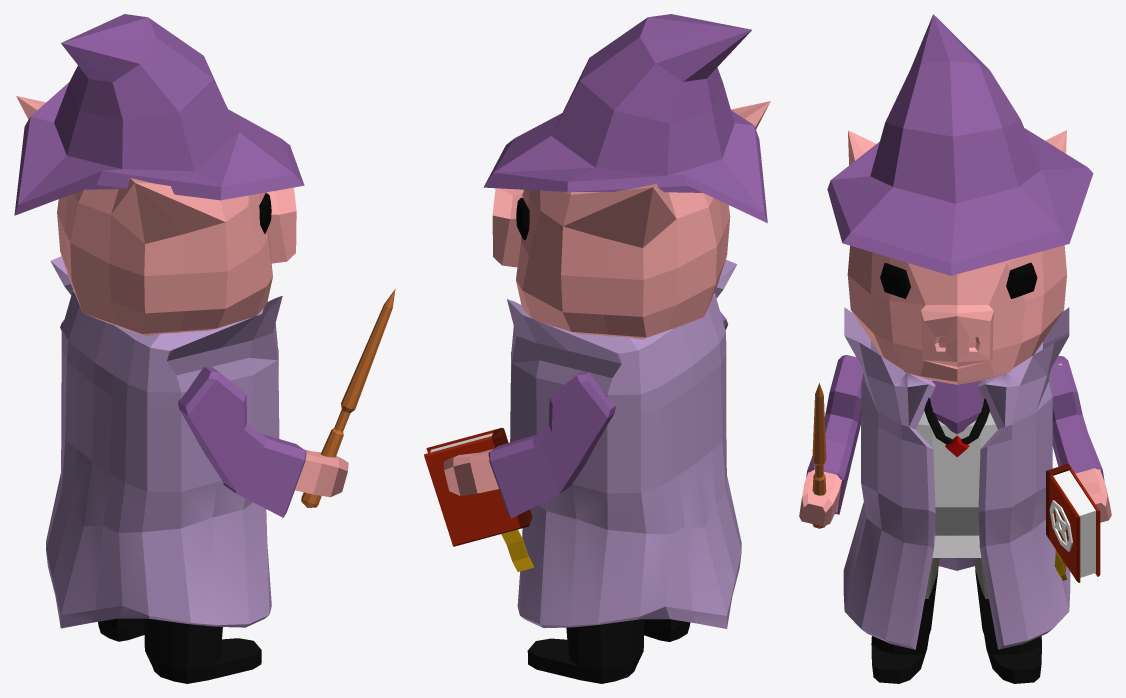
File: magician.glb
3 renders of one model, left to right at view 1: azimuth 30°, elevation 25°; view 2: azimuth 150°, elevation 25°; view 3: azimuth 270°, elevation 25°, orthographic. The views are drawn at different scales.
Visible parts, largest first — view 1: magician; view 2: magician; view 3: magician.
Boxes of the visible parts, bbox=[...] form: magician: bbox=[14, 14, 395, 683]; magician: bbox=[424, 14, 770, 683]; magician: bbox=[799, 14, 1111, 683].
Size of the model in its own units: 2.98 by 6 by 2.88.
Materials: 10 (3 with a texture image).
